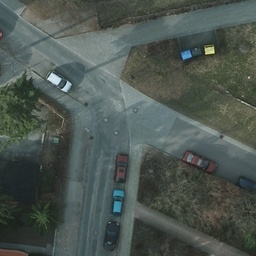car: (182, 150, 219, 175), (48, 69, 73, 96), (113, 150, 128, 183), (110, 187, 126, 215), (103, 221, 119, 249)
